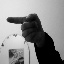g: (5, 12, 44, 44)
